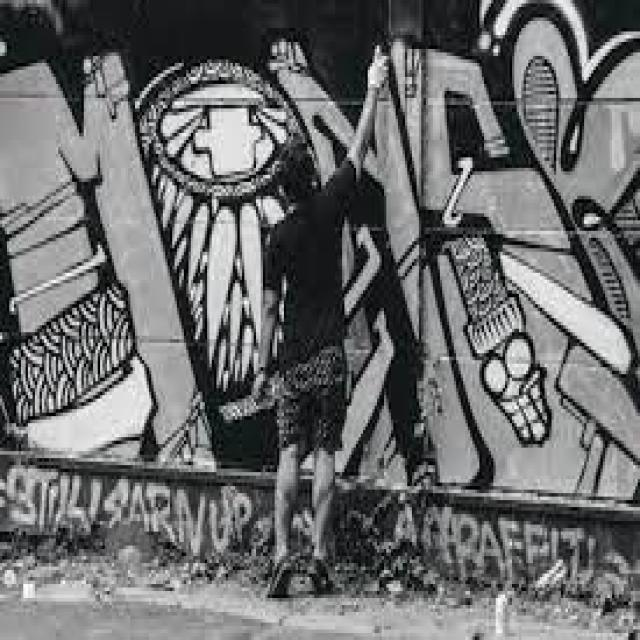-: (0, 0, 640, 501), (3, 465, 628, 586)
